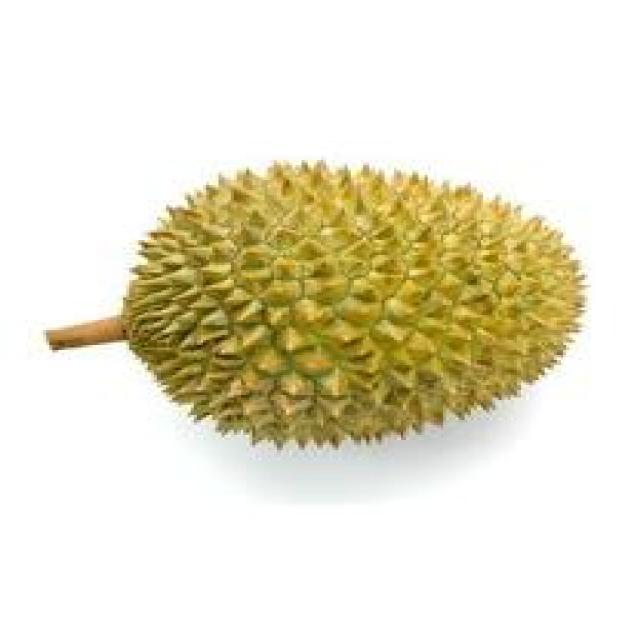fruit: (95, 125, 434, 503), (271, 133, 615, 505)
